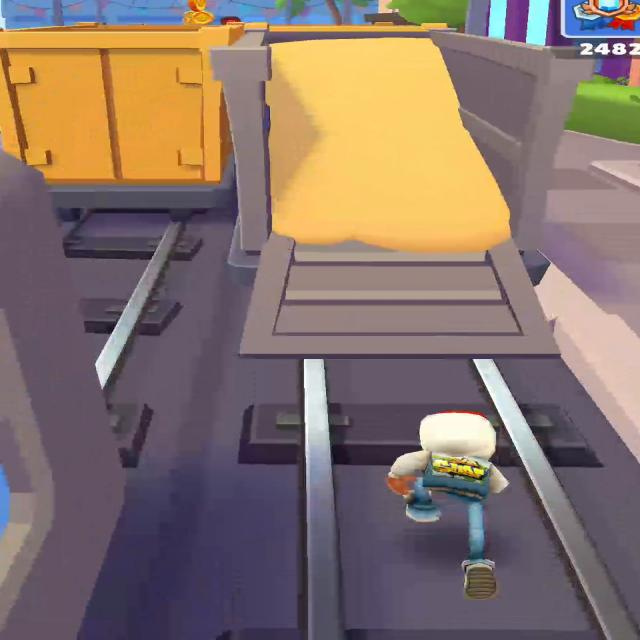climber: (266, 39, 509, 355)
train: (0, 151, 126, 640), (0, 23, 243, 209), (432, 33, 593, 249)
